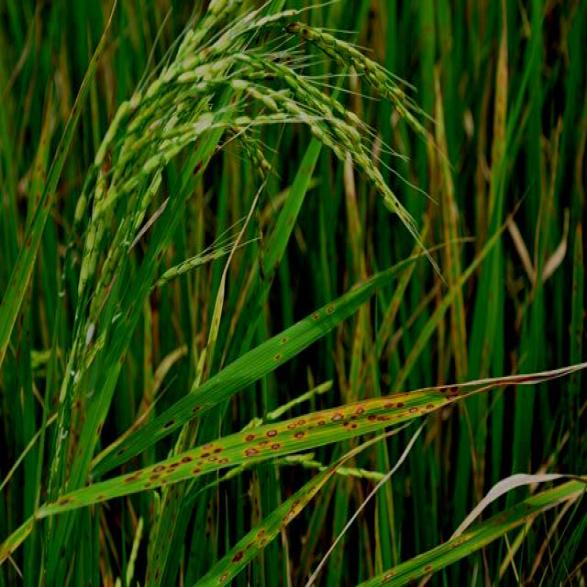Brown_Spot: (308, 296, 340, 322), (287, 417, 307, 438), (268, 247, 283, 271), (250, 530, 272, 546), (53, 489, 76, 504), (123, 467, 146, 482), (152, 239, 167, 261), (329, 405, 344, 424), (161, 413, 181, 427), (11, 275, 25, 295), (288, 496, 305, 512), (191, 396, 205, 415), (347, 413, 361, 431), (92, 418, 104, 438), (192, 157, 206, 174), (352, 400, 367, 415), (372, 410, 386, 426), (150, 461, 167, 474), (230, 548, 245, 562), (25, 229, 35, 249), (40, 188, 50, 206), (238, 430, 255, 440), (265, 424, 279, 436), (37, 159, 45, 177), (196, 448, 212, 457), (152, 547, 161, 563), (114, 445, 126, 456), (191, 464, 202, 475), (153, 565, 161, 580), (178, 453, 192, 461), (94, 489, 104, 500), (118, 344, 124, 362), (159, 471, 168, 483), (272, 350, 282, 360), (210, 442, 219, 453), (77, 440, 84, 454), (277, 336, 289, 344), (164, 493, 170, 506), (58, 141, 64, 153), (166, 528, 172, 537)
